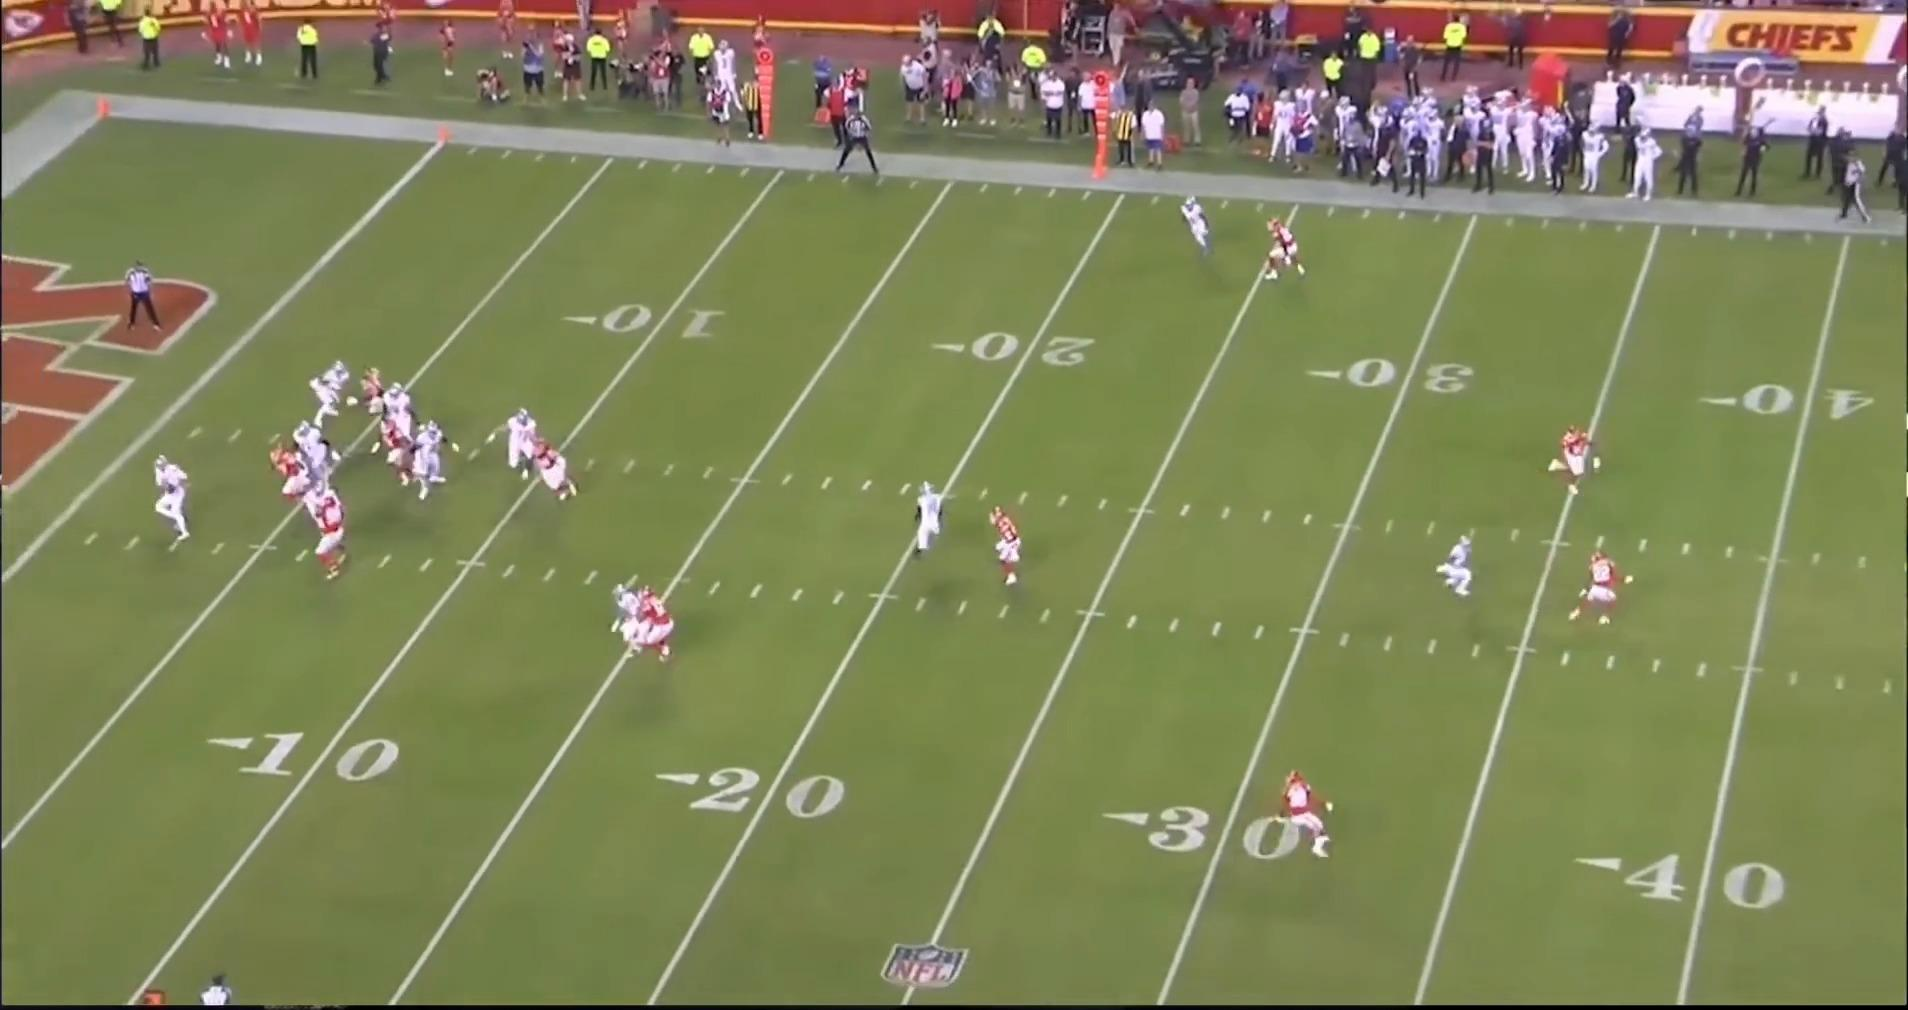player: (1571, 547, 1640, 626), (1285, 770, 1342, 860), (156, 455, 202, 549), (402, 417, 451, 500), (1550, 424, 1602, 500), (314, 496, 352, 592), (633, 589, 676, 669), (979, 502, 1019, 588), (532, 438, 585, 502), (910, 479, 951, 561), (1438, 536, 1484, 607), (1260, 216, 1307, 285), (503, 406, 543, 487), (267, 442, 312, 513), (310, 357, 355, 427), (612, 583, 649, 666), (1177, 194, 1217, 265), (385, 379, 419, 456), (379, 416, 413, 483), (295, 418, 340, 468), (305, 482, 346, 524), (360, 363, 389, 416)
ref: (1835, 150, 1879, 230), (837, 109, 887, 178), (129, 255, 172, 334), (191, 970, 243, 1005)
